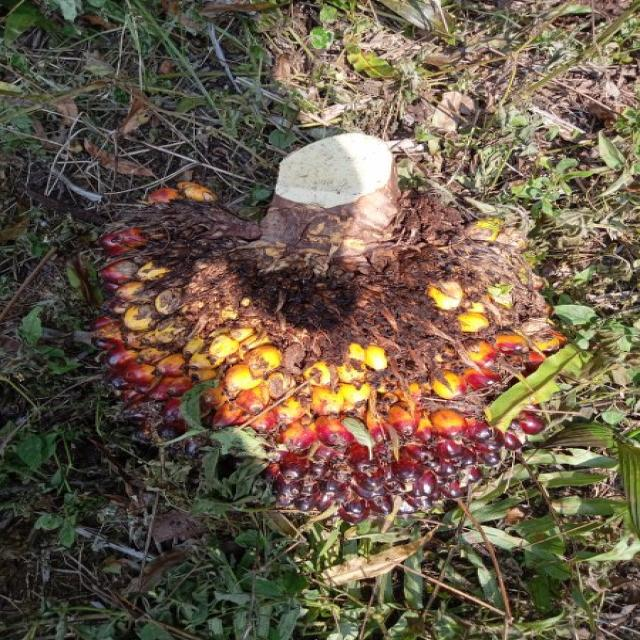fraksi 1: (43, 81, 610, 558)
